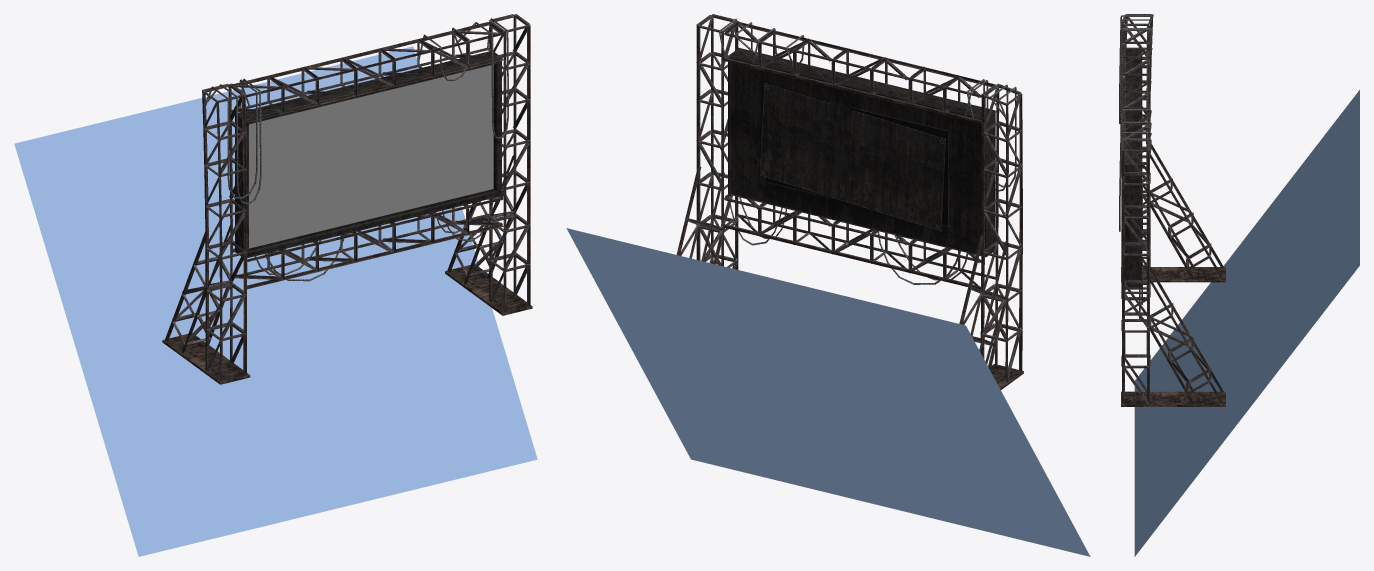
The model's file is screen.obj.
3 renders of one model, left to right at view 1: azimuth 30°, elevation 25°; view 2: azimuth 150°, elevation 25°; view 3: azimuth 270°, elevation 25°, orthographic. The views are drawn at different scales.
Parts seen in each view (by area): view 1: Plane001, Gotham_Sign_BigScreen; view 2: Plane001, Gotham_Sign_BigScreen; view 3: Plane001, Gotham_Sign_BigScreen.
Part boxes in pixels (x1,y1,x2,y2): Plane001: [14, 46, 537, 556]; Gotham_Sign_BigScreen: [162, 14, 532, 384]; Plane001: [566, 228, 1090, 556]; Gotham_Sign_BigScreen: [676, 14, 1023, 389]; Plane001: [1134, 90, 1359, 556]; Gotham_Sign_BigScreen: [1119, 14, 1225, 406].
Size of the model in its own units: 990 by 1053 by 572.
